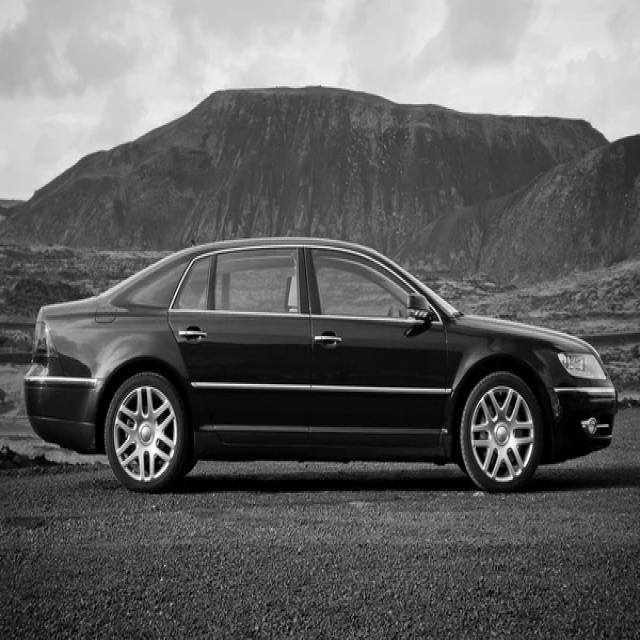Car: (24, 238, 618, 492)
